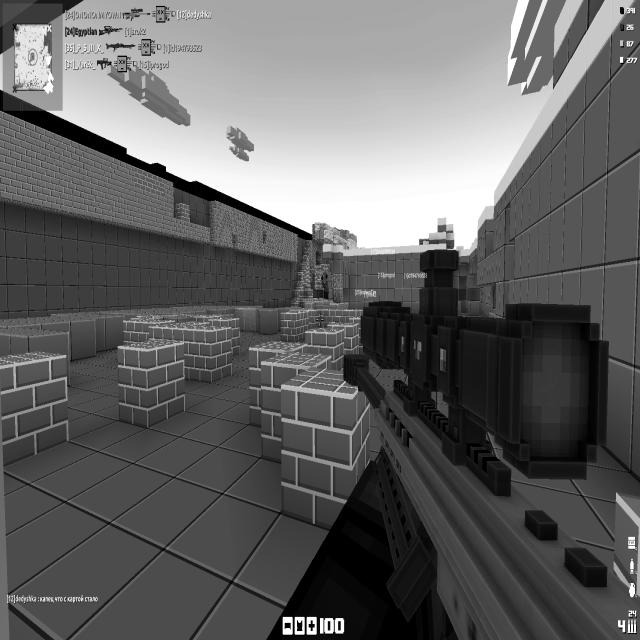Head: (322, 276, 328, 284)
Player: (320, 271, 329, 300)
